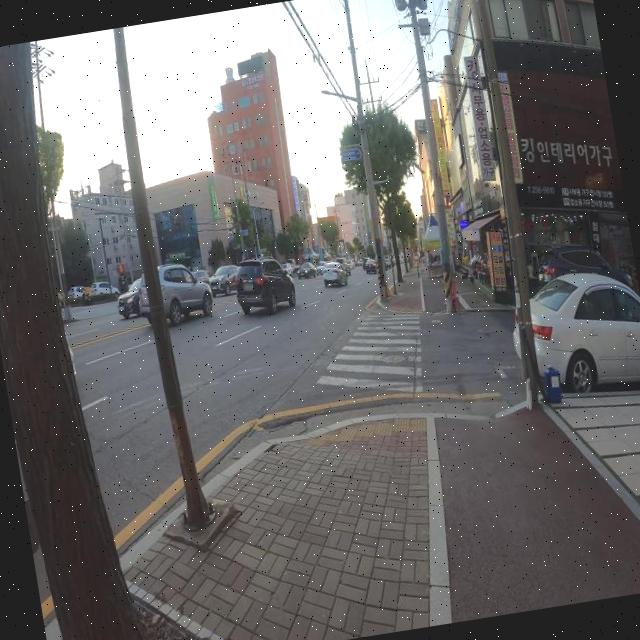crosswalk: (315, 314, 426, 392)
